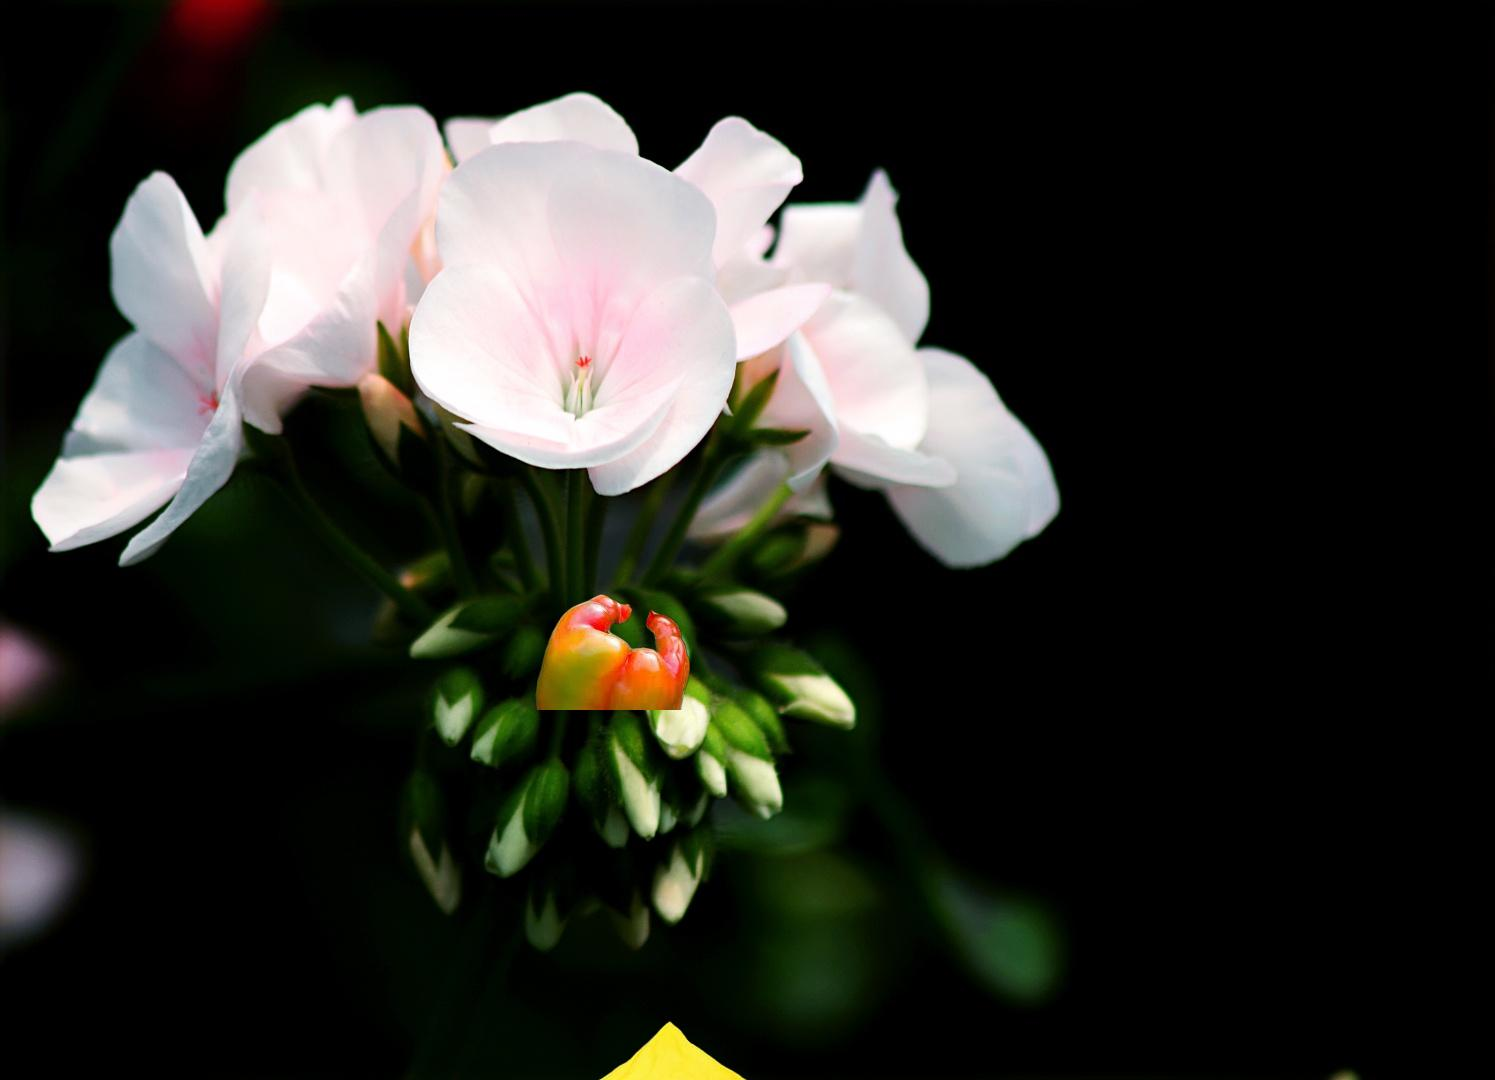biological: (534, 591, 693, 710)
plastic-bag: (544, 1018, 778, 1080)
